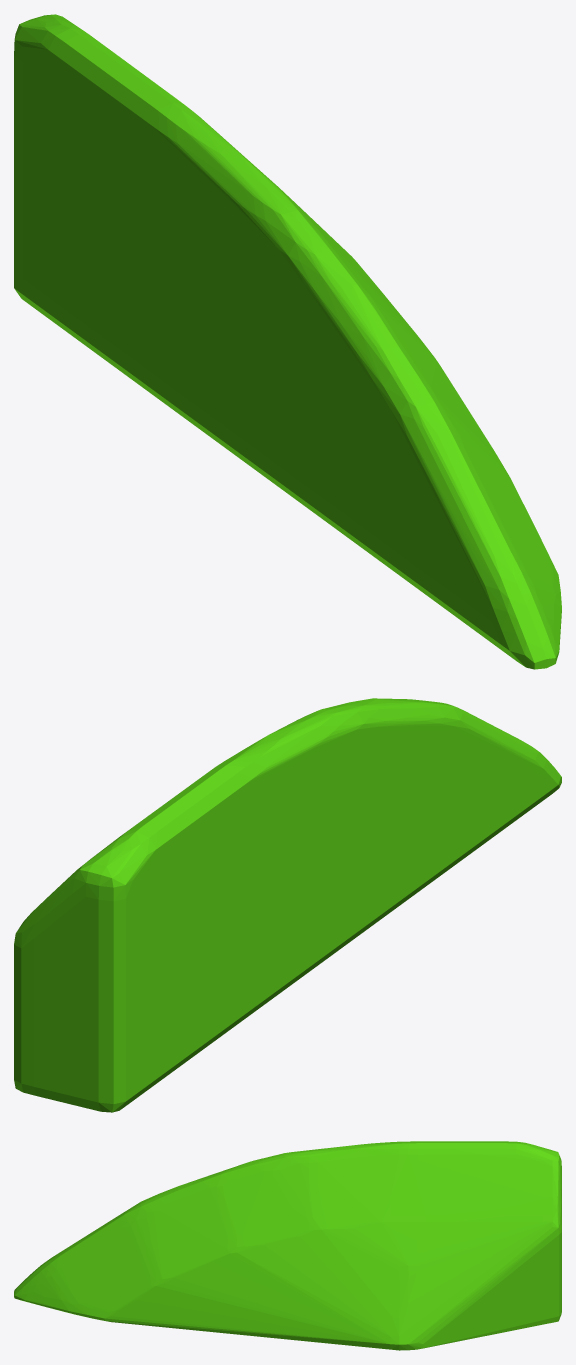
The model's file is right_shoulder_roll_link_part_17.obj.
3 renders of one model, top to bottom at view 1: azimuth 30°, elevation 25°; view 2: azimuth 150°, elevation 25°; view 3: azimuth 270°, elevation 25°, orthographic. The views are drawn at different scales.
Bounding box in the file's own units: 0.00875 × 0.0107 × 0.0339.
